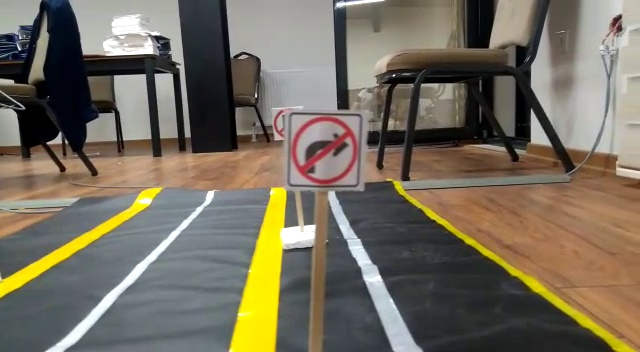saga_donulmez: (291, 114, 359, 187)
